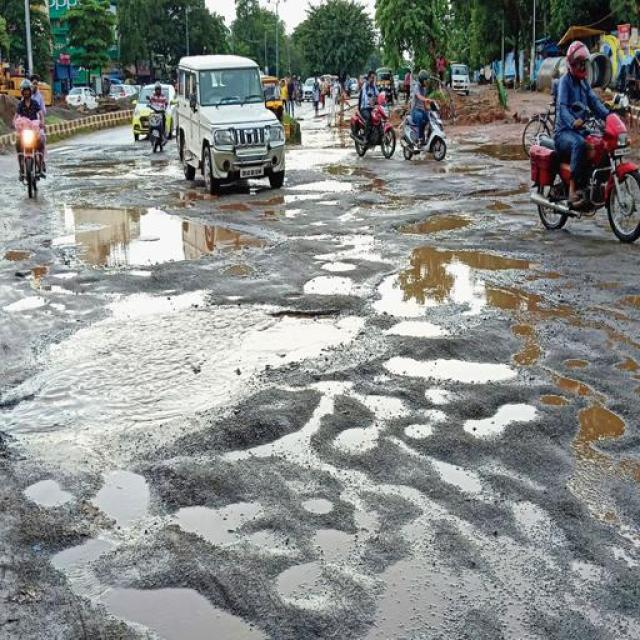puddle: (47, 325, 326, 413), (67, 200, 221, 281), (399, 244, 500, 316)
